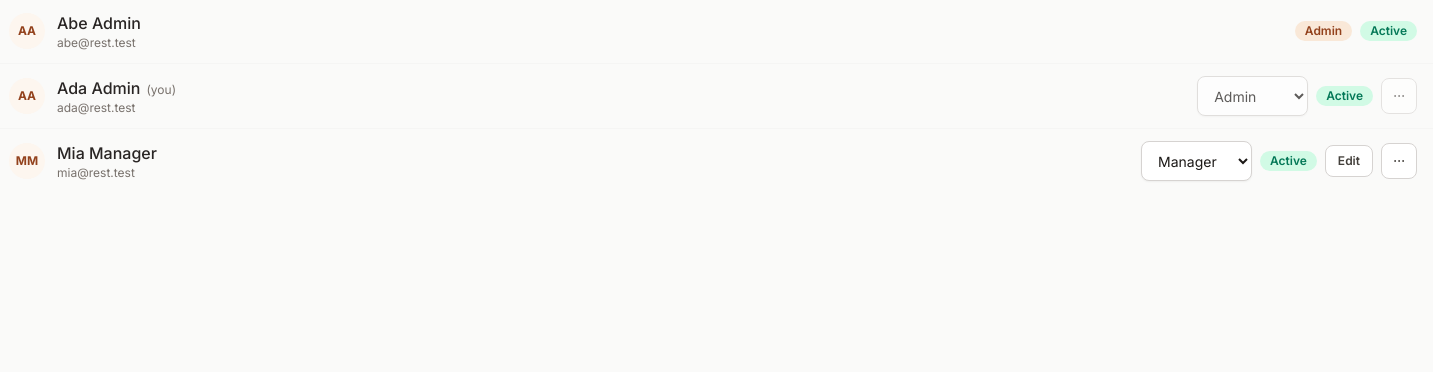
Test: AccountTable › gives an admin every control on a manager but none on another admin
Step 1. Click the button named "More actions for Mia Manager" → (1399, 161), box x1=1381 y1=143 x2=1417 y2=179
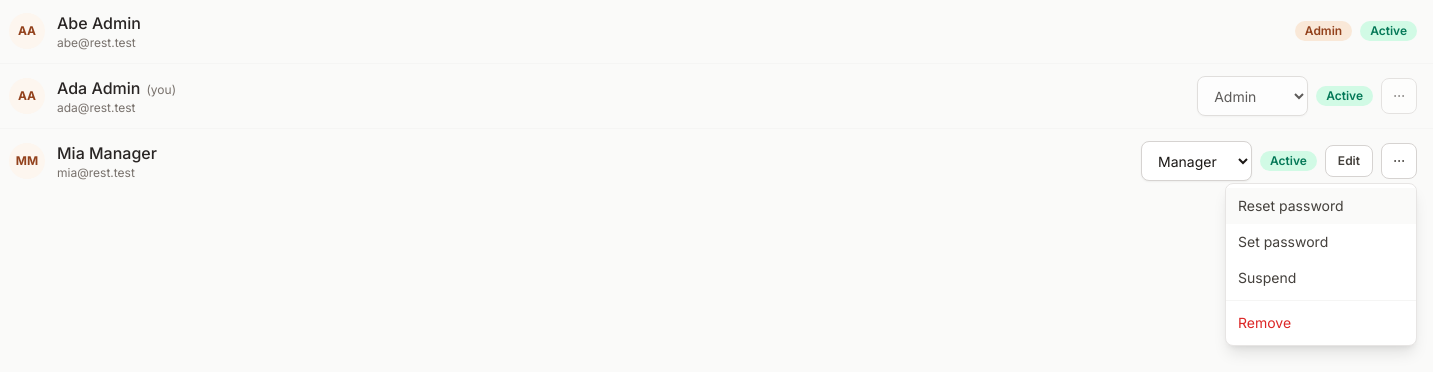
Now the menu item with aria-label "Reset password for Mia Manager" is shown, box x1=1226 y1=188 x2=1416 y2=224
Now the menu item with aria-label "Set password for Mia Manager" is shown, box x1=1226 y1=224 x2=1416 y2=260
Now the menu item "Suspend" is enabled, box x1=1226 y1=260 x2=1416 y2=296
